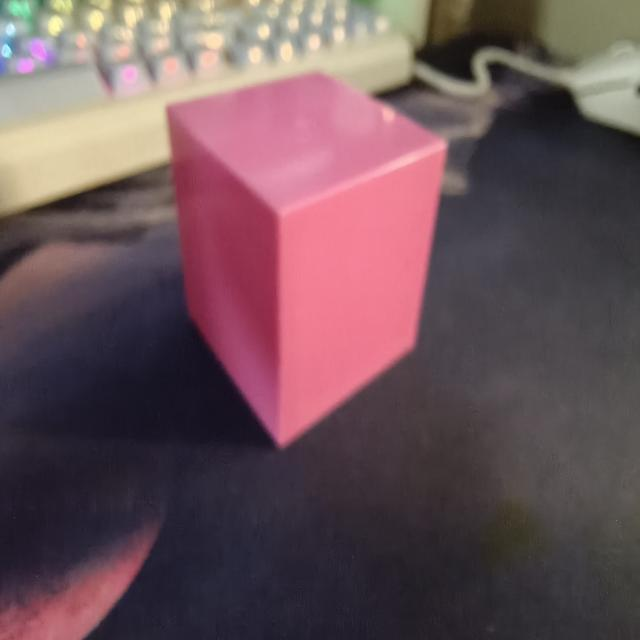pink: (154, 66, 452, 451)
